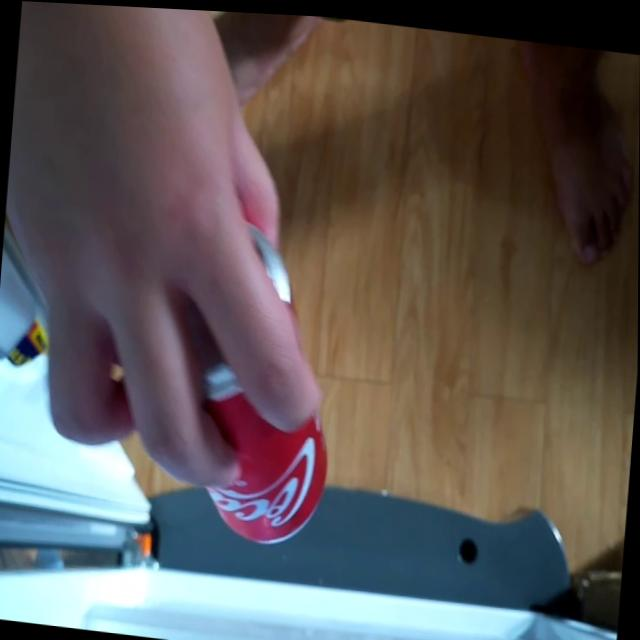coke: (160, 212, 346, 546)
